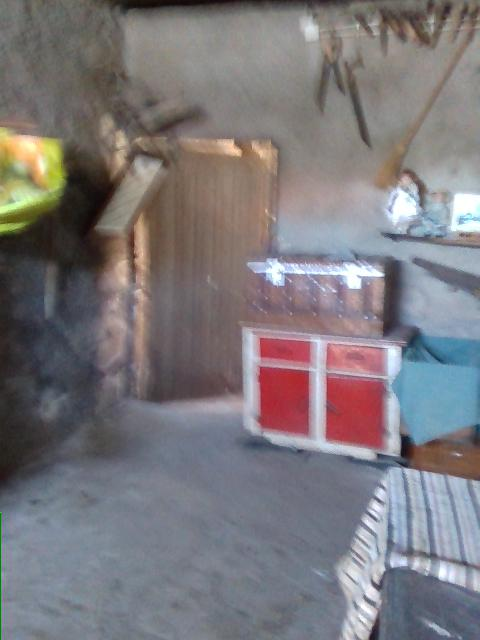semi_door: (127, 140, 278, 409)
